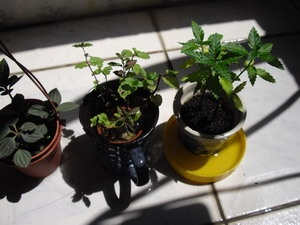plate: (162, 115, 246, 183)
